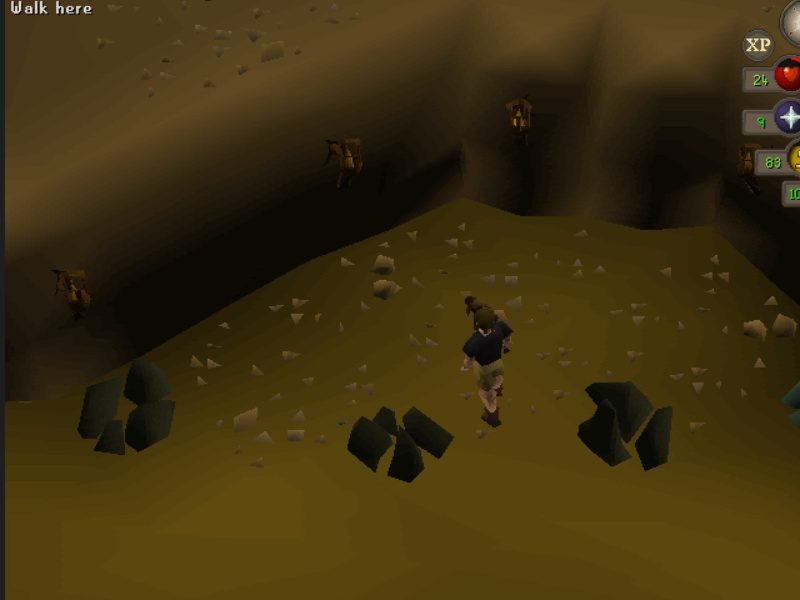coal: (73, 354, 188, 461), (573, 374, 675, 476), (345, 401, 457, 489)
